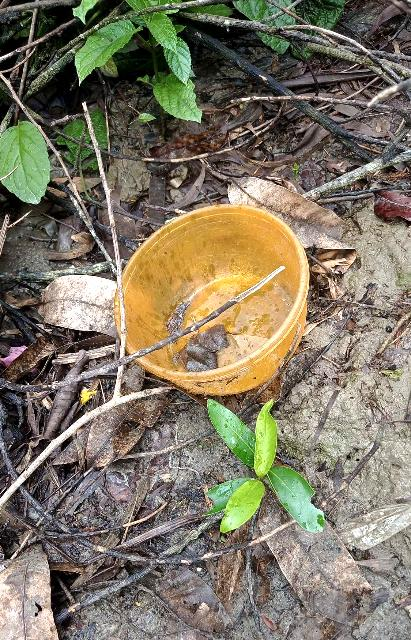hardplastic: (115, 201, 316, 392)
